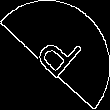P_SW: (26, 24, 84, 86)
